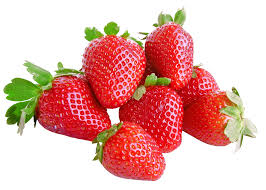Fresa: (26, 71, 118, 146), (113, 79, 190, 157), (79, 30, 149, 112), (94, 119, 168, 184), (143, 17, 197, 92), (183, 89, 246, 150)
